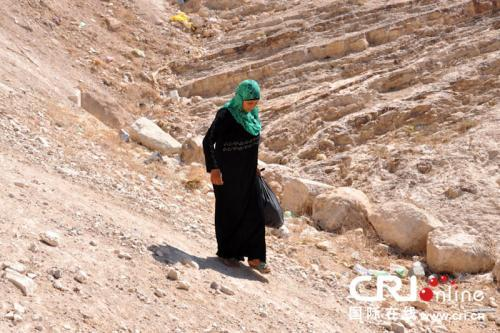up: (201, 72, 281, 275)
